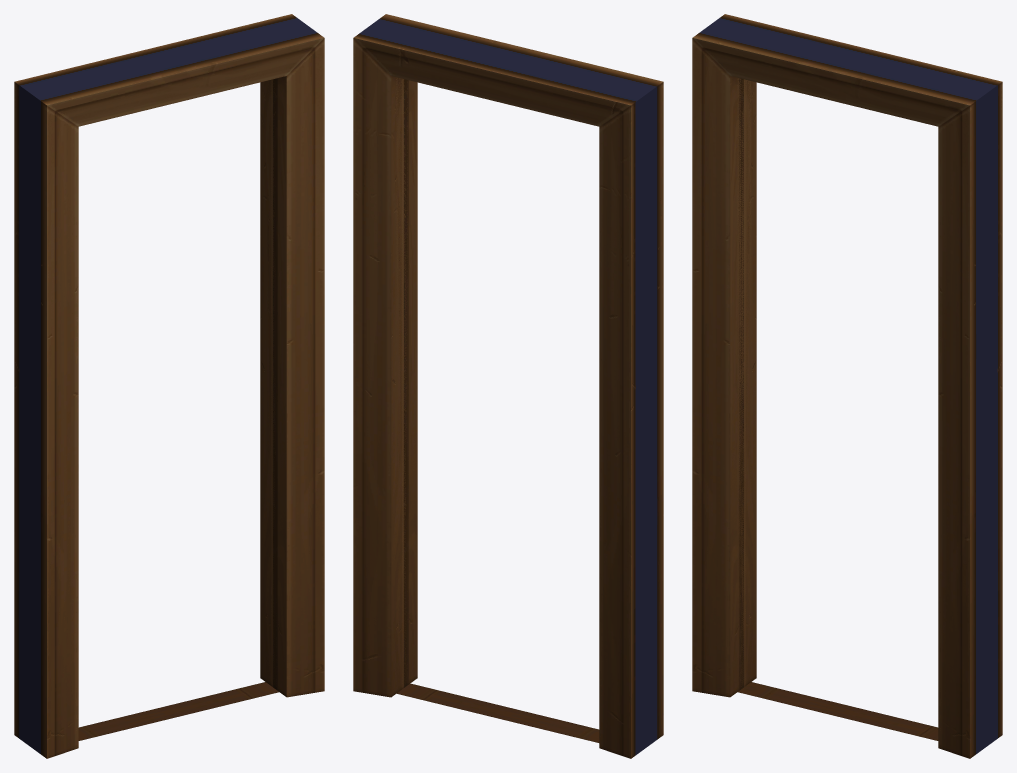
The model's file is marcoPuerta.obj.
3 renders of one model, left to right at view 1: azimuth 30°, elevation 25°; view 2: azimuth 150°, elevation 25°; view 3: azimuth 330°, elevation 25°, orthographic.
Parts seen in each view (by area): view 1: s4studio_mesh_1, s4studio_mesh_2, s4studio_mesh_0; view 2: s4studio_mesh_2, s4studio_mesh_1, s4studio_mesh_0; view 3: s4studio_mesh_1, s4studio_mesh_2, s4studio_mesh_0.
Boxes of the visible parts, x1,y1,x2,y2 form: s4studio_mesh_1: (29,25,324,758); s4studio_mesh_2: (14,14,306,745); s4studio_mesh_0: (260,76,286,696); s4studio_mesh_2: (353,26,646,758); s4studio_mesh_1: (369,14,663,747); s4studio_mesh_0: (391,76,417,696); s4studio_mesh_1: (692,25,987,758); s4studio_mesh_2: (710,14,1002,745); s4studio_mesh_0: (730,76,756,696).
Bounding box in the file's own units: 1 × 2.25 × 0.2031.
3 materials, 3 textured.
